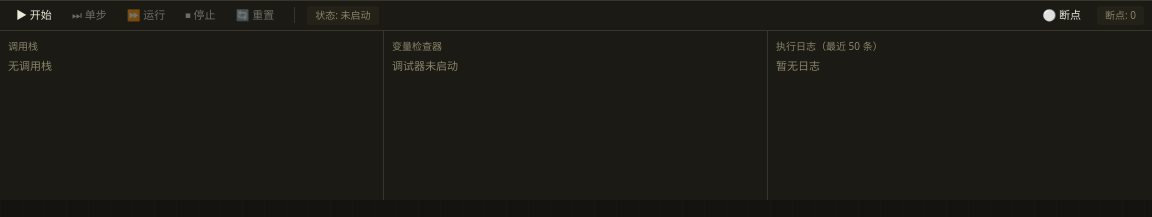
Scenario: DebuggerPanel › 7. 选中节点后点击"断点"按钮切换断点
The image size is (1152, 217).
Click the button with aria-label "为节点 n_cond 添加断点". click: (1062, 15)
box: [1034,5,1089,26]
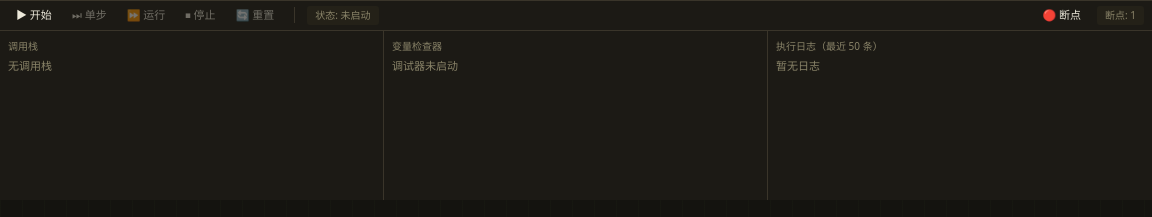
Expected: the message named "已设置断点数：1" is shown, [1097,6,1144,25]
Click the button with aria-label "移除节点 n_cond 的断点". click: (1062, 15)
box: [1034,5,1089,26]
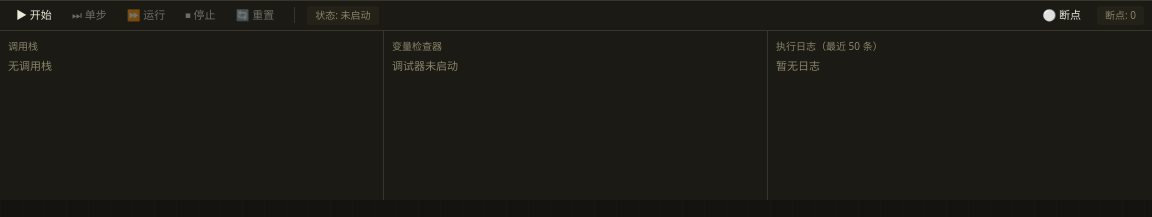
Expected: the message named "已设置断点数：0" is shown, [1097,6,1144,25]
